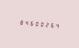eight: (17, 18, 21, 26)
four: (22, 18, 26, 26), (52, 21, 56, 29)
six: (27, 18, 31, 27), (47, 20, 51, 29)
two: (42, 20, 46, 28)
zero: (37, 19, 41, 28), (32, 19, 36, 27)
